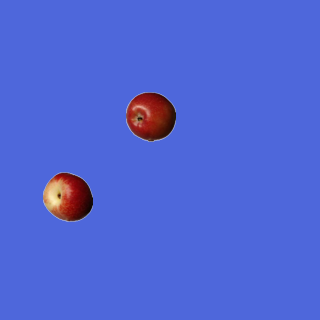Apple Braeburn: (125, 91, 175, 141)
Nectarine: (42, 171, 92, 221)
